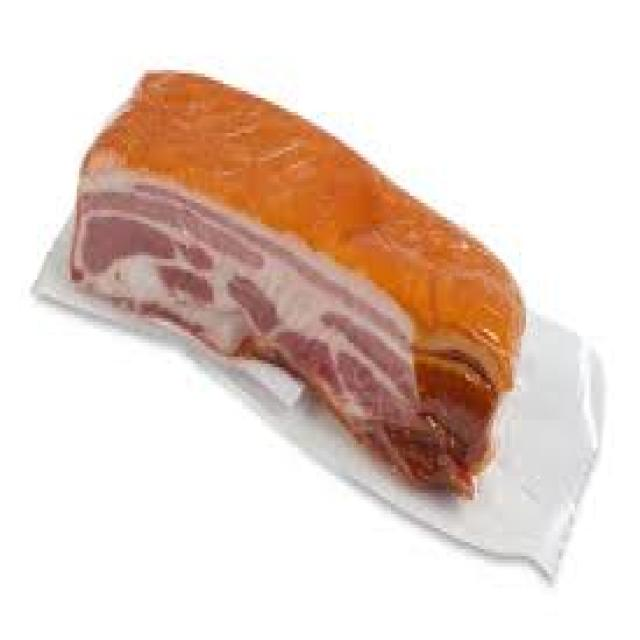pork: (59, 25, 562, 555)
